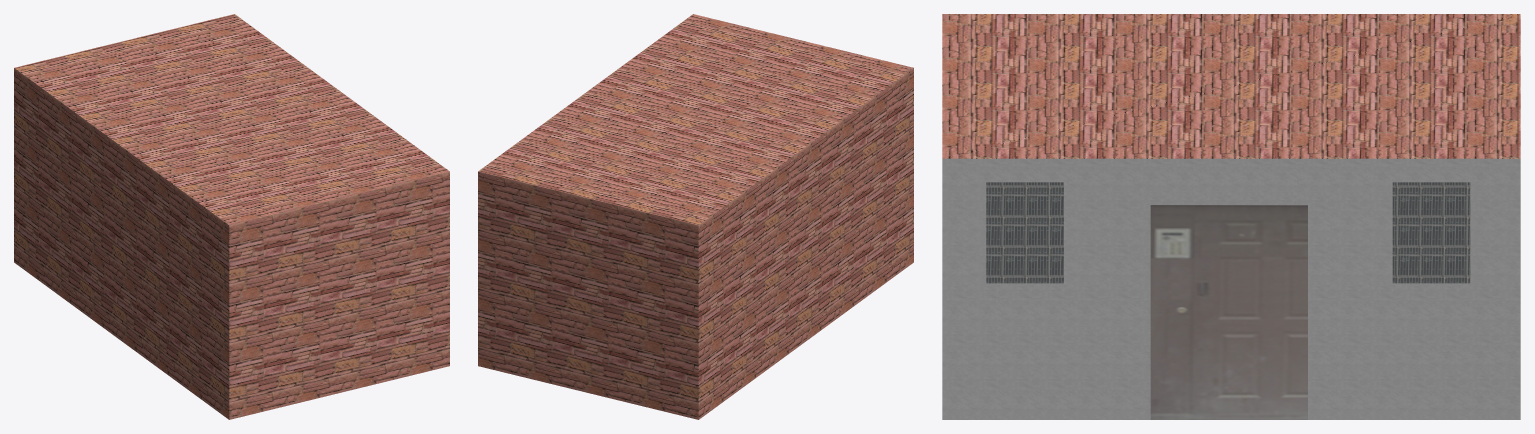
File: bengfang.gltf
3 renders of one model, left to right at view 1: azimuth 30°, elevation 25°; view 2: azimuth 150°, elevation 25°; view 3: azimuth 270°, elevation 25°, orthographic. The views are drawn at different scales.
Parts seen in each view (by area): view 1: Mesh1 Model; view 2: Mesh1 Model; view 3: Mesh1 Model.
Part boxes in pixels (x1,y1,x2,y2): Mesh1 Model: (14,14,449,419); Mesh1 Model: (478,14,913,419); Mesh1 Model: (942,14,1520,419).
Size of the model in its own units: 4.76 by 4.01 by 8.04.
Materials: 4 (4 with a texture image).
